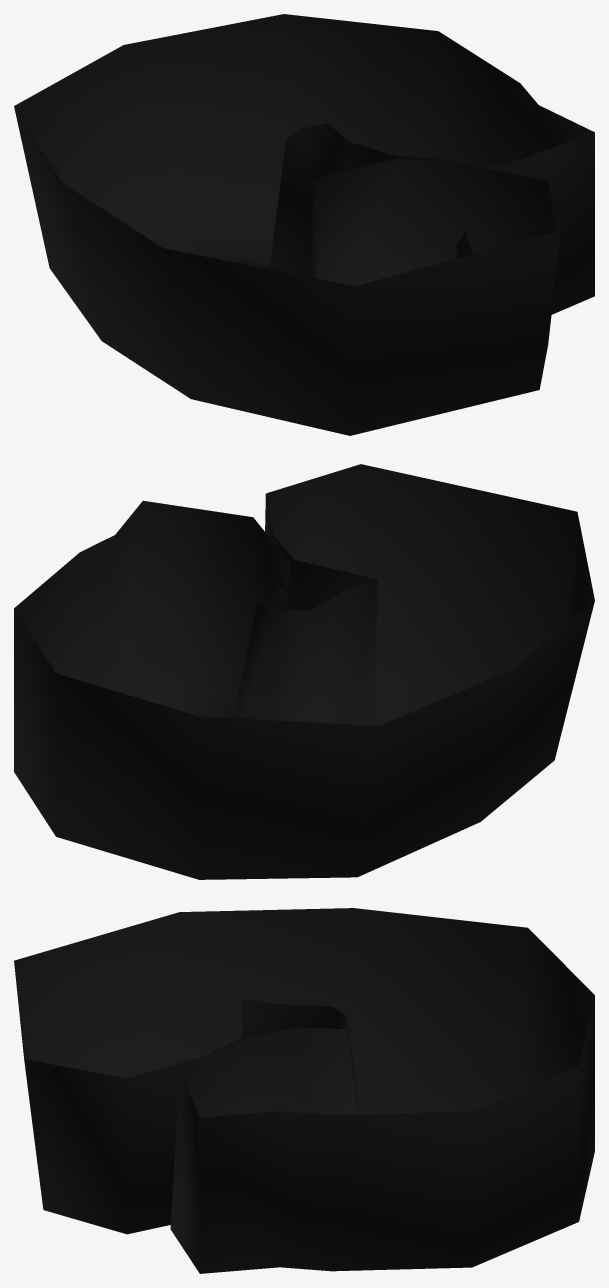
File: wdsy_sky.FBX
The picture shows the model from 3 angles, top to bottom: view 1: azimuth 30°, elevation 25°; view 2: azimuth 150°, elevation 25°; view 3: azimuth 270°, elevation 25°; orthographic projection. The views are drawn at different scales.
Visible parts, largest first — view 1: wdsy_sky; view 2: wdsy_sky; view 3: wdsy_sky.
Boxes of the visible parts, x1,y1,x2,y2 form: wdsy_sky: [14, 14, 594, 435]; wdsy_sky: [14, 464, 594, 879]; wdsy_sky: [14, 908, 594, 1273].
Bounding box in the file's own units: 13431 × 4662 × 15723.
